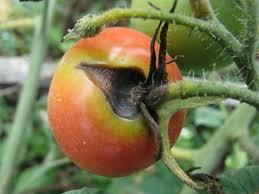tomato early blight: (49, 1, 259, 194)
